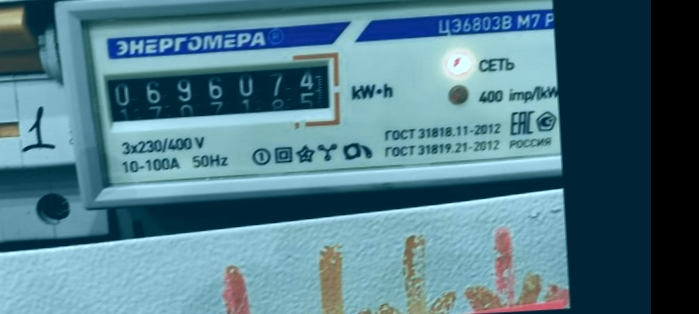0: (108, 81, 128, 107), (234, 71, 252, 97)
4: (295, 66, 312, 91)
5: (296, 90, 312, 109)
6: (140, 77, 161, 105), (202, 74, 221, 99)
7: (263, 70, 283, 97)
9: (170, 76, 191, 102)
screen: (88, 46, 345, 142)
